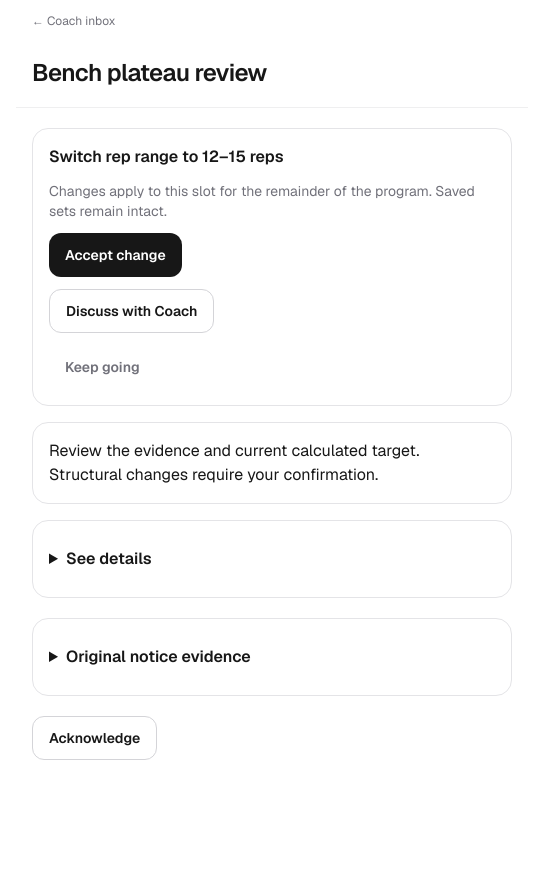
Test: retries a lost acceptance response with the original request identity
This screenshot has width=545, height=883.
Click the button "Accept change": (115, 255) [49,233,182,277]
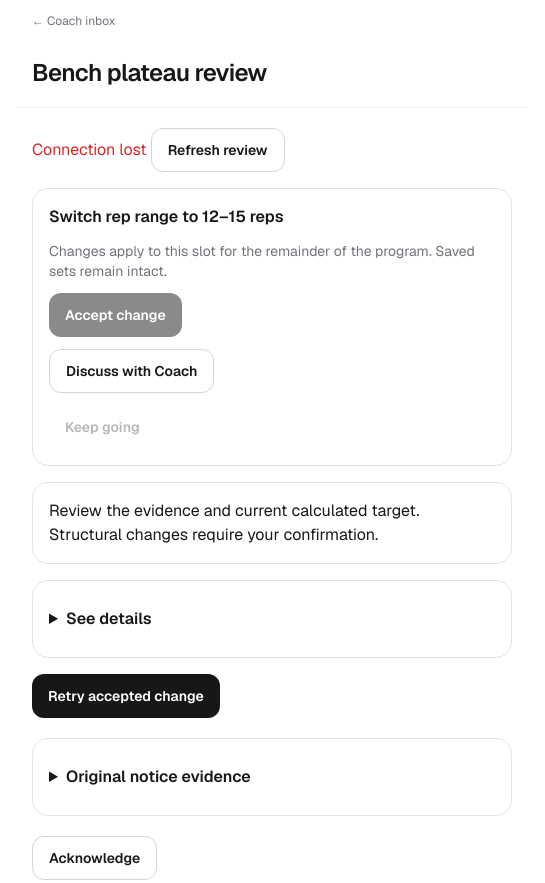
Result: the button "Accept change" is disabled at [49,293,182,337]
Click the button "Retry accepted change": (126, 696) [32,674,220,718]
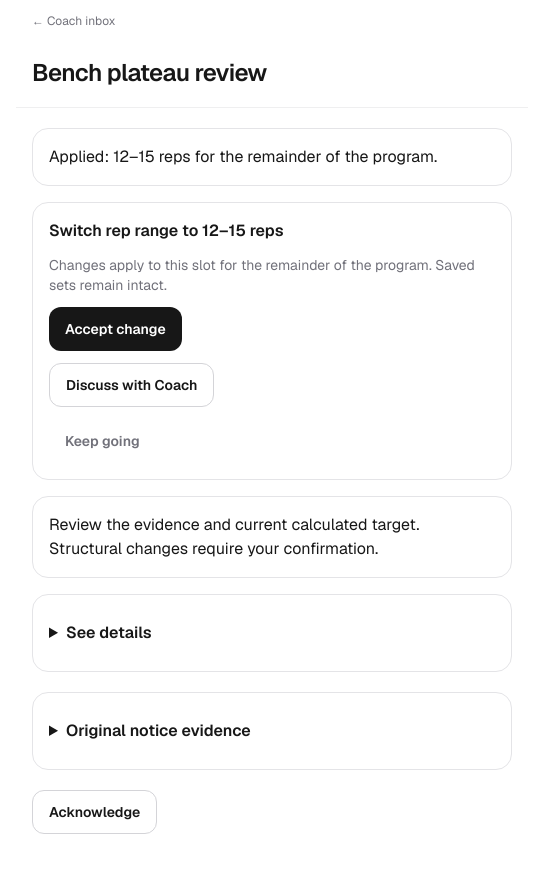
Result: the text "Applied: 12–15 reps" is shown at [49,146,437,167]
